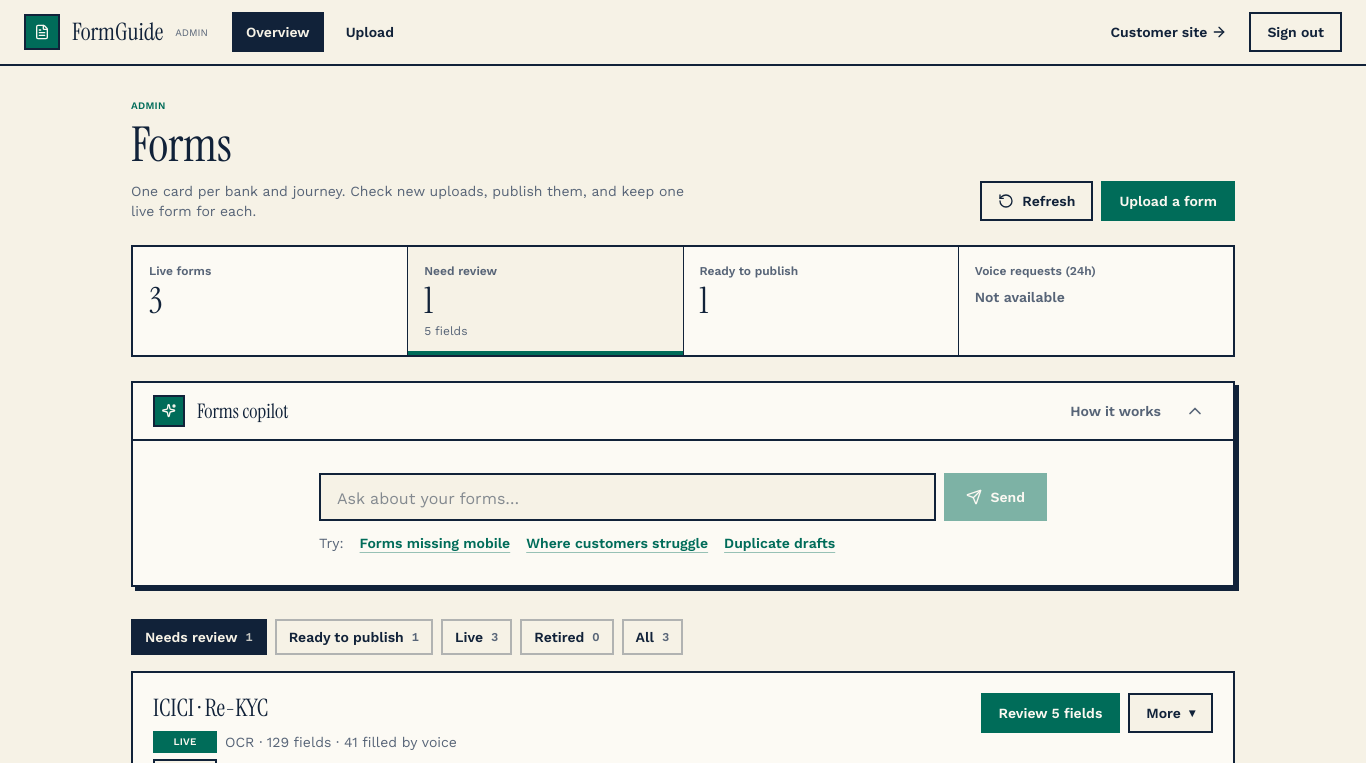
AdminApp in mock mode › opens the console at /admin and moves between Overview and Upload
Expected: the heading "Forms" is shown, [131, 113, 232, 176]
Click the link "Upload": (370, 32) [346, 24, 394, 40]
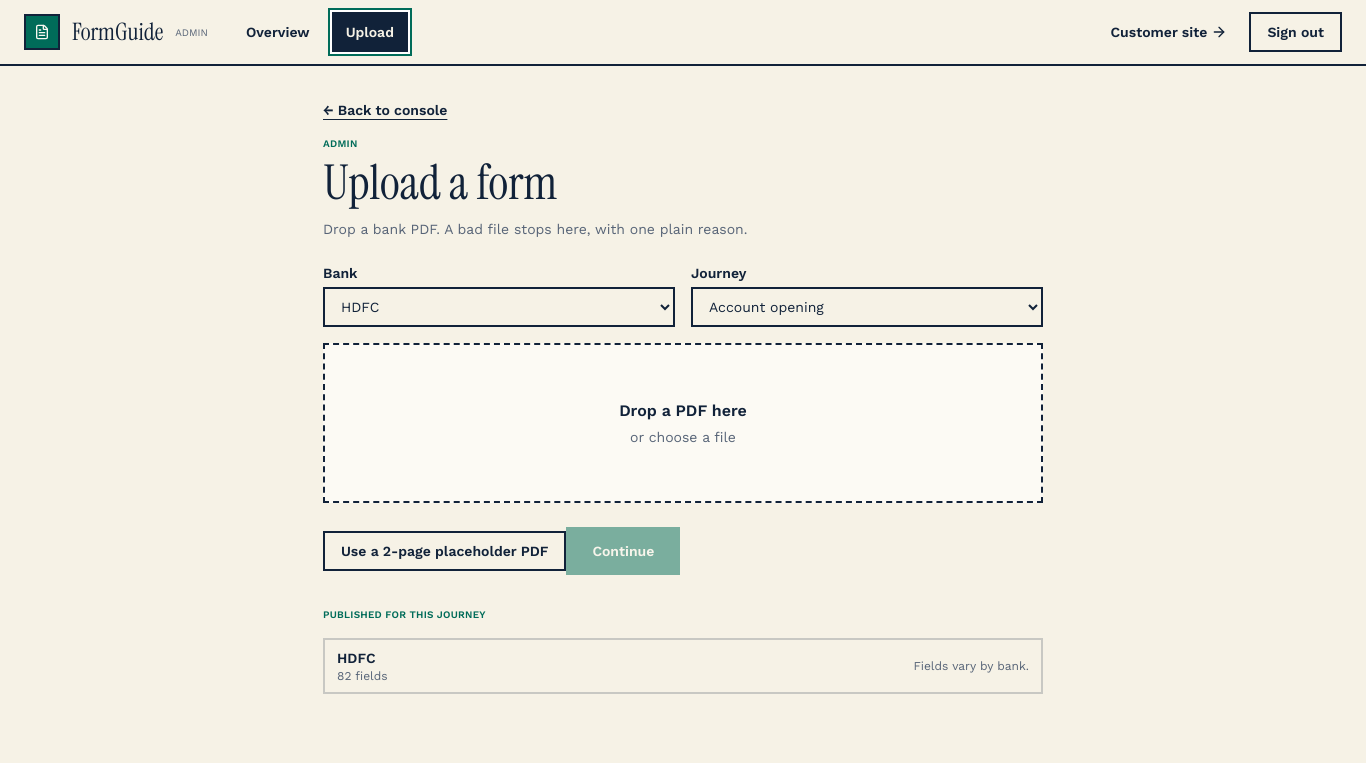
Result: the heading "Upload a form" is shown at [323, 151, 557, 214]
Click the button "← Back to console": (385, 110) [323, 100, 447, 120]
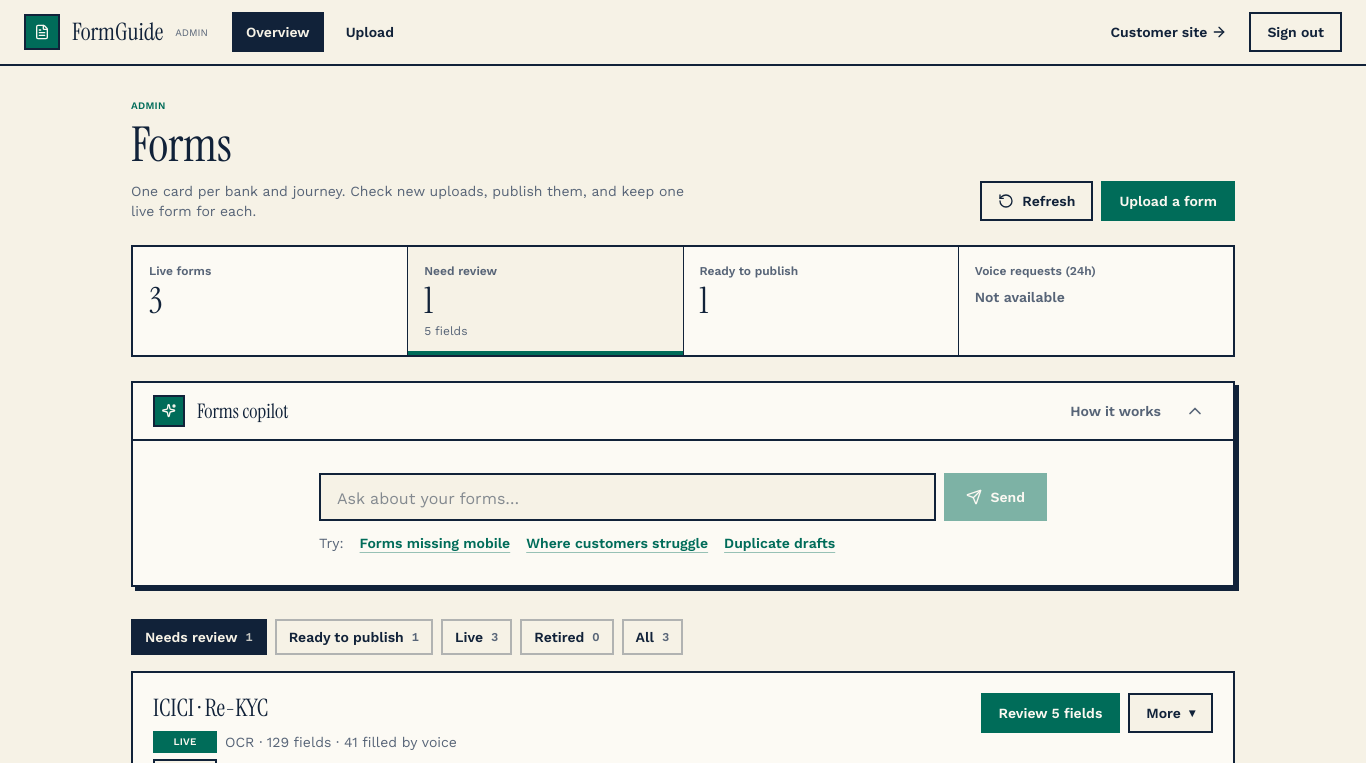
Result: the heading "Forms" is shown at [131, 113, 232, 176]
